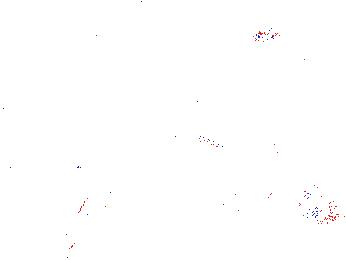X-ray fish: (220, 176, 247, 215)
glassfish: (64, 169, 123, 260), (150, 122, 262, 168)
red belly glassfish: (250, 23, 303, 43)
